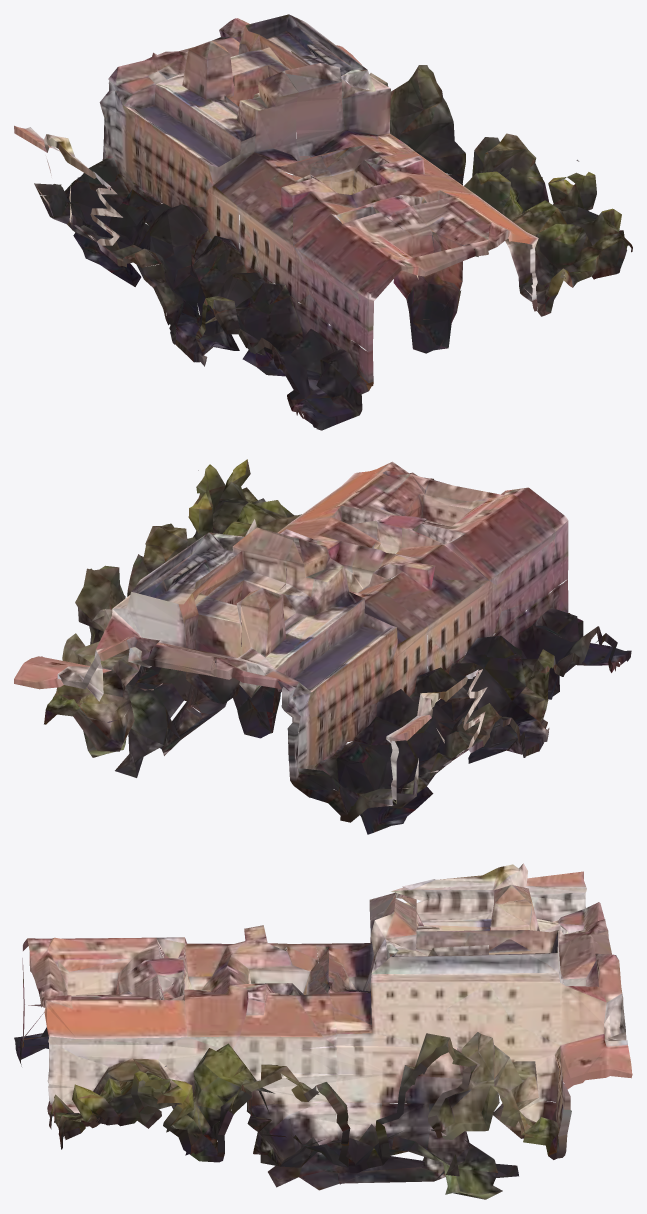
3 renders of one model, top to bottom at view 1: azimuth 30°, elevation 25°; view 2: azimuth 150°, elevation 25°; view 3: azimuth 270°, elevation 25°, orthographic. The views are drawn at different scales.
Parts seen in each view (by area): view 1: Mesh_0; view 2: Mesh_0; view 3: Mesh_0.
Boxes of the visible parts, bbox=[...] form: Mesh_0: bbox=[14, 14, 632, 430]; Mesh_0: bbox=[14, 459, 631, 834]; Mesh_0: bbox=[14, 863, 632, 1199].
Bounding box in the file's own units: 66.59 × 34 × 82.49.
1 material, 1 textured.
